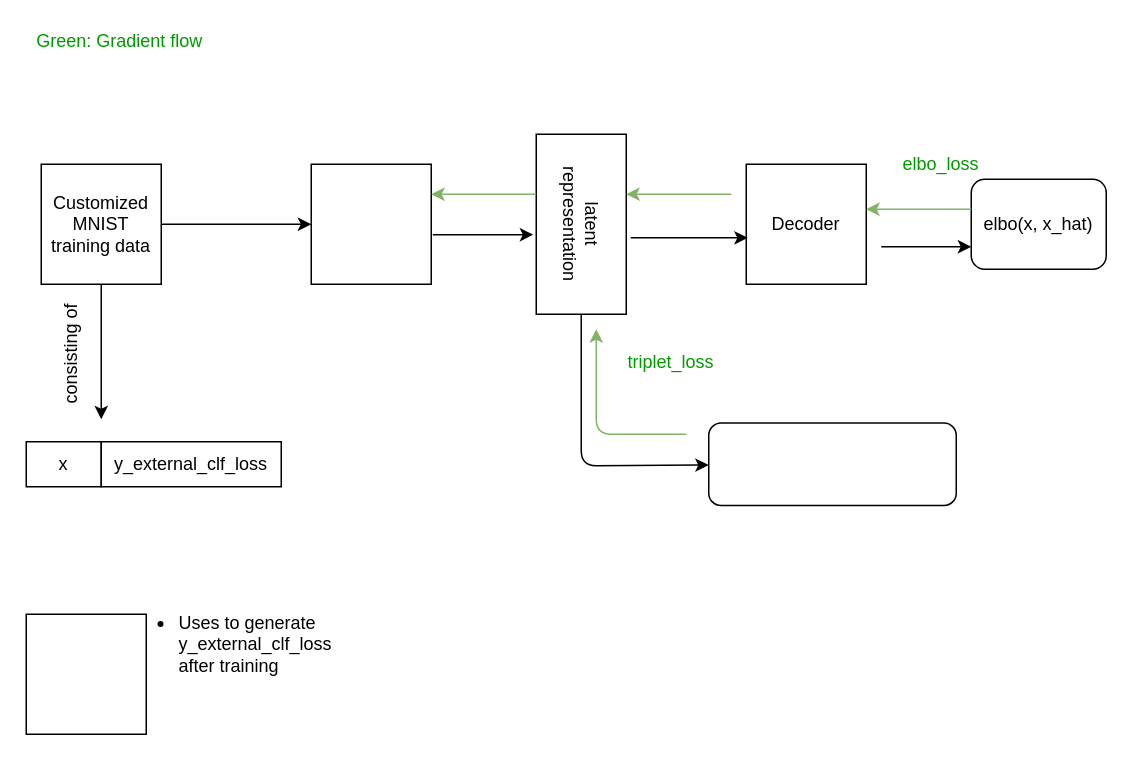
Some shapes in this 1133 by 761 pixel diagram are drawn without their labels. Here are the shapes that lost their labels. From the top down, the centre of each, then its label:
the point at 370,223: Encoder
the point at 831,464: triplet_loss(z_batch, y_external_clf_loss_batch)
the point at 85,673: External classifier; trained on MNIST; 98% acc
